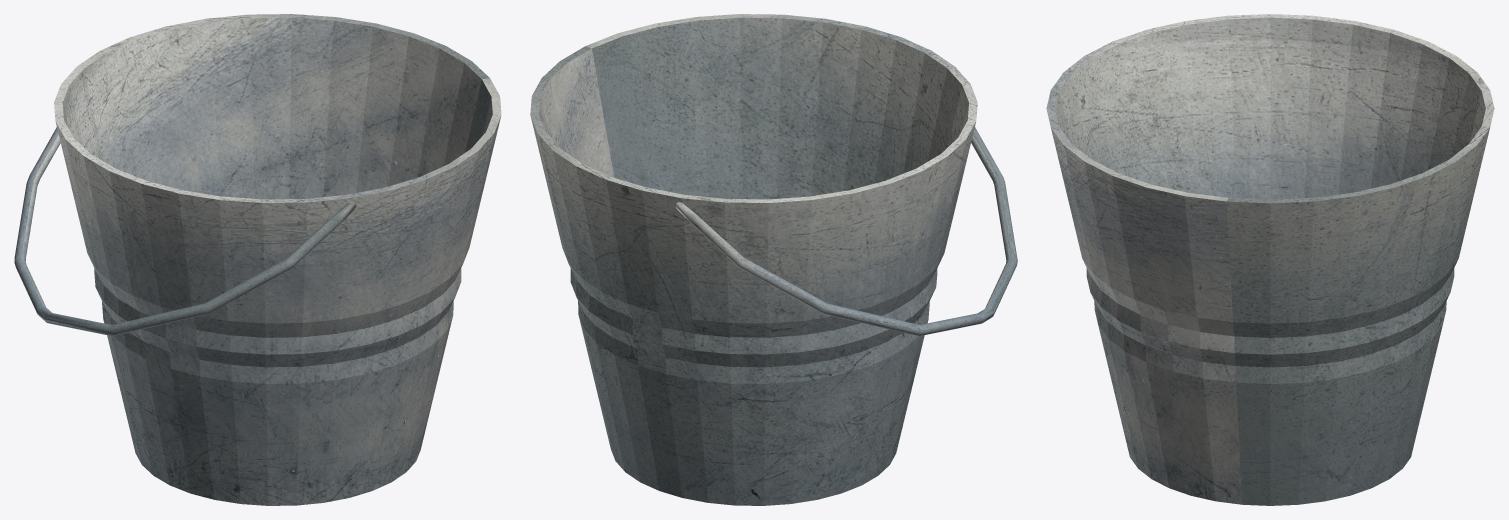
File: Bucket.fbx
3 views of the same model, side by side, from view 1: azimuth 30°, elevation 25°; view 2: azimuth 150°, elevation 25°; view 3: azimuth 270°, elevation 25° (orthographic).
Visible parts, largest first — view 1: Bucket, Handle; view 2: Bucket, Handle; view 3: Bucket.
Boxes of the visible parts, box(x1,y1,x2,y2) form: Bucket: box(54, 14, 501, 505); Handle: box(14, 127, 356, 335); Bucket: box(530, 14, 977, 505); Handle: box(675, 127, 1017, 335); Bucket: box(1046, 14, 1494, 505).
Bounding box in the file's own units: 347 × 259 × 313.
